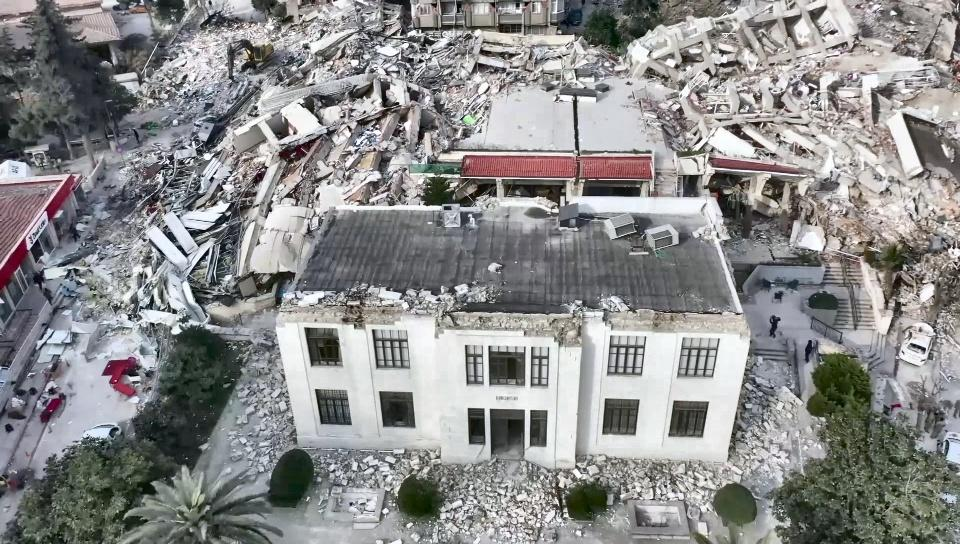kapali: (27, 2, 279, 425)
